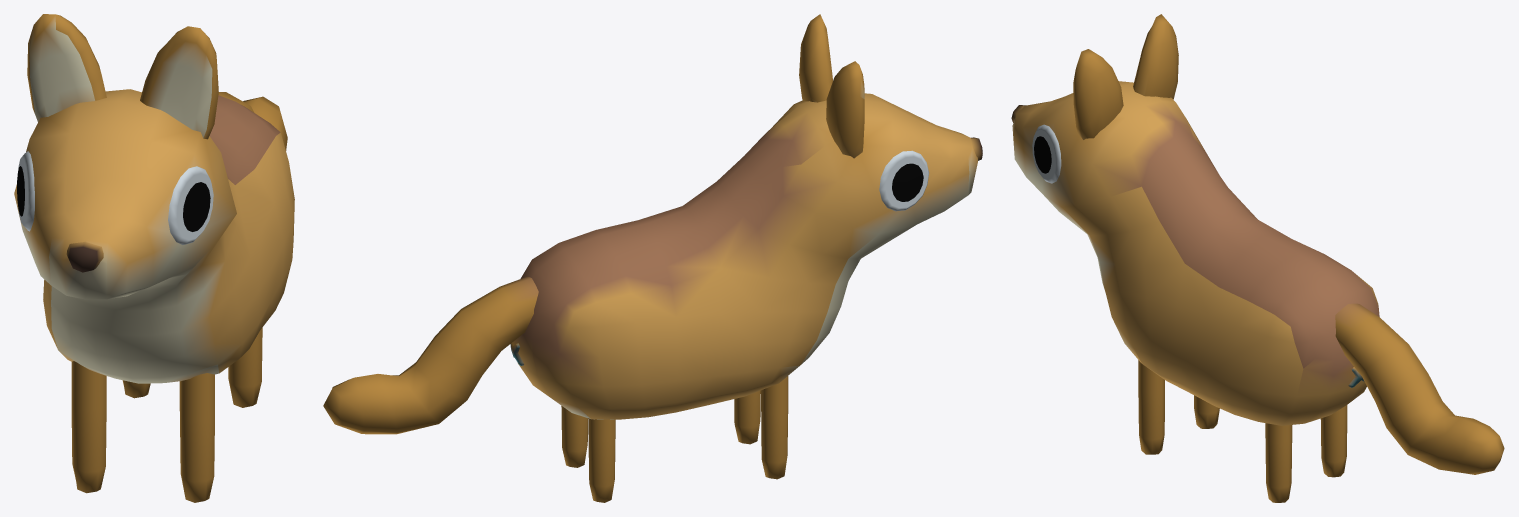
The model's file is Coyote.glb.
3 renders of one model, left to right at view 1: azimuth 30°, elevation 25°; view 2: azimuth 150°, elevation 25°; view 3: azimuth 270°, elevation 25°, orthographic. The views are drawn at different scales.
Visible parts, largest first — view 1: 33; view 2: 33; view 3: 33.
Boxes of the visible parts, x1,y1,x2,y2 form: 33: [14, 14, 294, 502]; 33: [323, 14, 982, 502]; 33: [1011, 14, 1504, 502].
Size of the model in its own units: 0.9721 by 0.9251 by 1.07.
